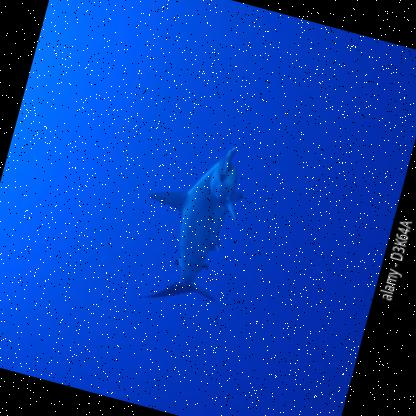hammerhead_Shark: (94, 113, 277, 328)
